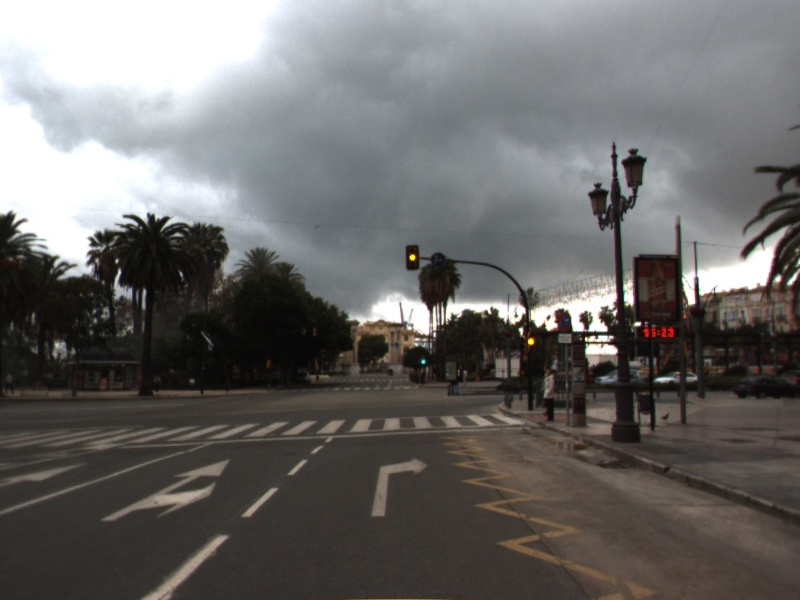RIGHT: (368, 454, 432, 519)
STRAIGHT: (1, 460, 91, 491)
STRAIGHT_RIGHT: (98, 457, 234, 525)
